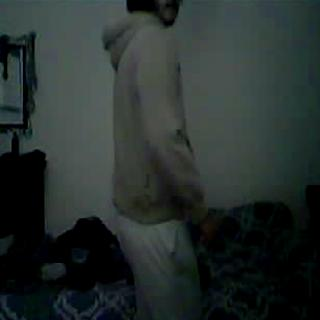White Sweatpants: (114, 211, 202, 320)
Yellow Hoodie: (111, 17, 190, 212)
